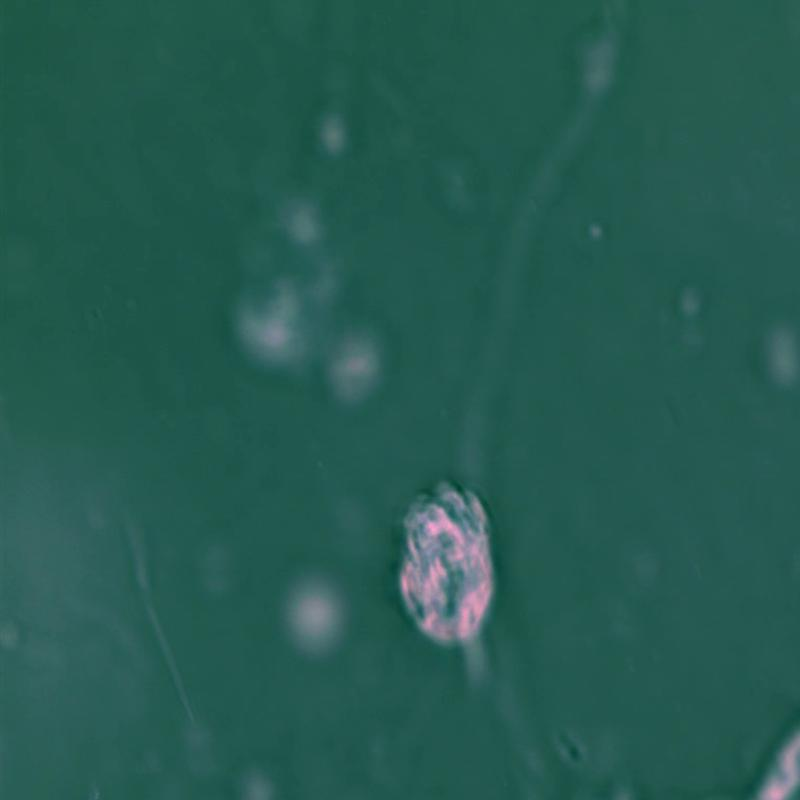depth:60: (365, 461, 552, 735)
